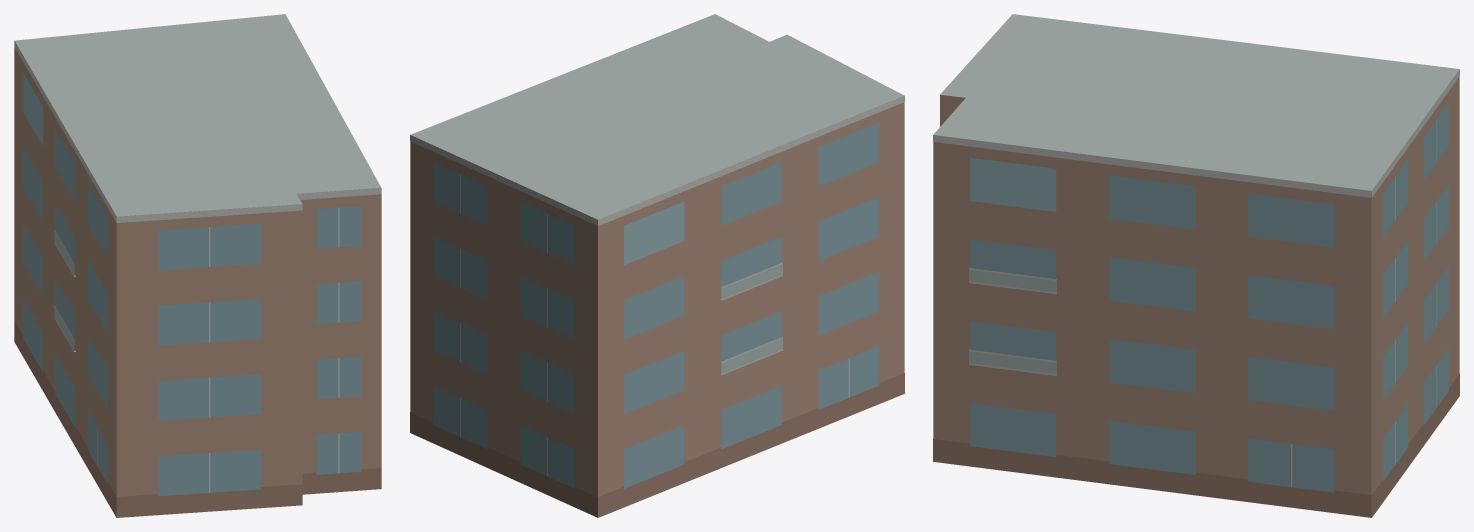
The model's file is survey-upis-32941785.glb.
The picture shows the model from 3 angles, left to right: view 1: azimuth 30°, elevation 25°; view 2: azimuth 150°, elevation 25°; view 3: azimuth 270°, elevation 25°; orthographic projection. The views are drawn at different scales.
Visible parts, largest first — view 1: survey-upis-32941785.tmp; view 2: survey-upis-32941785.tmp; view 3: survey-upis-32941785.tmp.
Boxes of the visible parts, x1,y1,x2,y2 form: survey-upis-32941785.tmp: [14, 14, 381, 517]; survey-upis-32941785.tmp: [410, 14, 904, 517]; survey-upis-32941785.tmp: [933, 14, 1459, 517].
Bounding box in the file's own units: 13.37 × 11.5 × 16.8.
